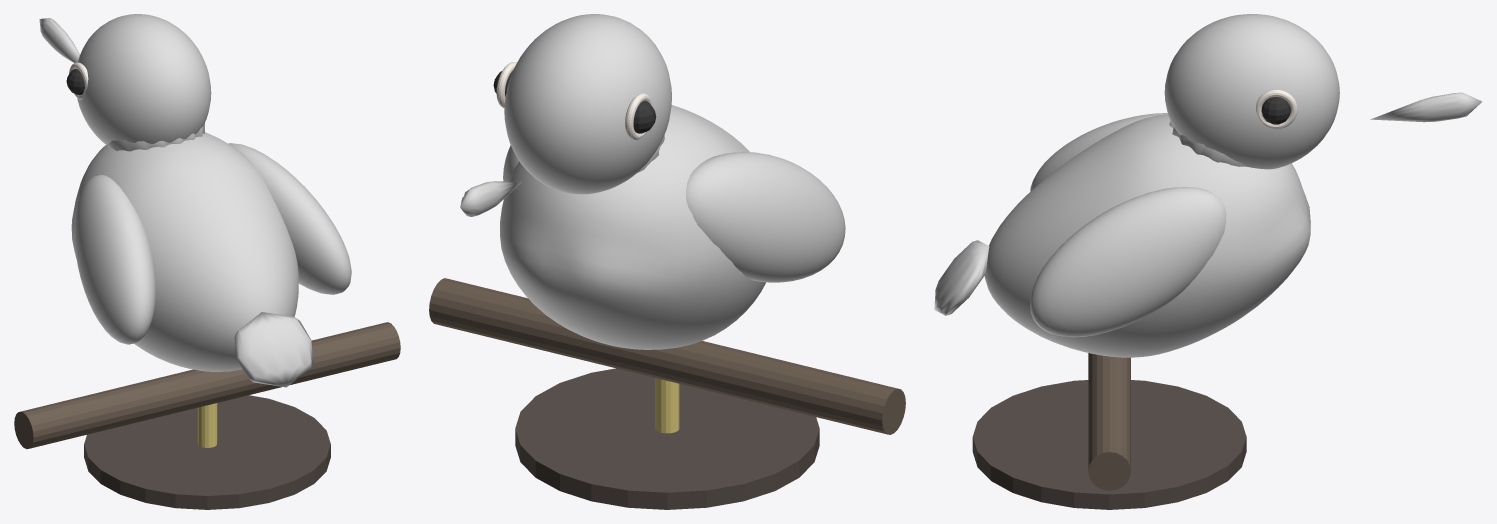
File: kingfisher.glb
The picture shows the model from 3 angles, left to right: view 1: azimuth 30°, elevation 25°; view 2: azimuth 150°, elevation 25°; view 3: azimuth 270°, elevation 25°; orthographic projection. The views are drawn at different scales.
Parts seen in each view (by area): view 1: kingfisher_bird, Cylinder, PerchBranch, Cylinder.001; view 2: kingfisher_bird, Cylinder, PerchBranch, Cylinder.001, Eye_Right, Torus.001; view 3: kingfisher_bird, Cylinder, PerchBranch, Torus, Eye_Left.
Boxes of the visible parts, x1,y1,x2,y2 form: kingfisher_bird: [39, 14, 351, 387]; Cylinder: [84, 395, 330, 509]; PerchBranch: [14, 322, 400, 448]; Cylinder.001: [197, 403, 217, 447]; kingfisher_bird: [460, 14, 845, 349]; Cylinder: [515, 368, 819, 509]; PerchBranch: [429, 278, 905, 434]; Cylinder.001: [655, 378, 679, 433]; Eye_Right: [633, 101, 656, 133]; Torus.001: [625, 93, 653, 139]; kingfisher_bird: [934, 14, 1482, 357]; Cylinder: [972, 380, 1246, 509]; PerchBranch: [1088, 353, 1130, 490]; Torus: [1256, 89, 1297, 129]; Eye_Left: [1261, 97, 1290, 124].
Bounding box in the file's own units: 1.65 × 1.67 × 1.92.
